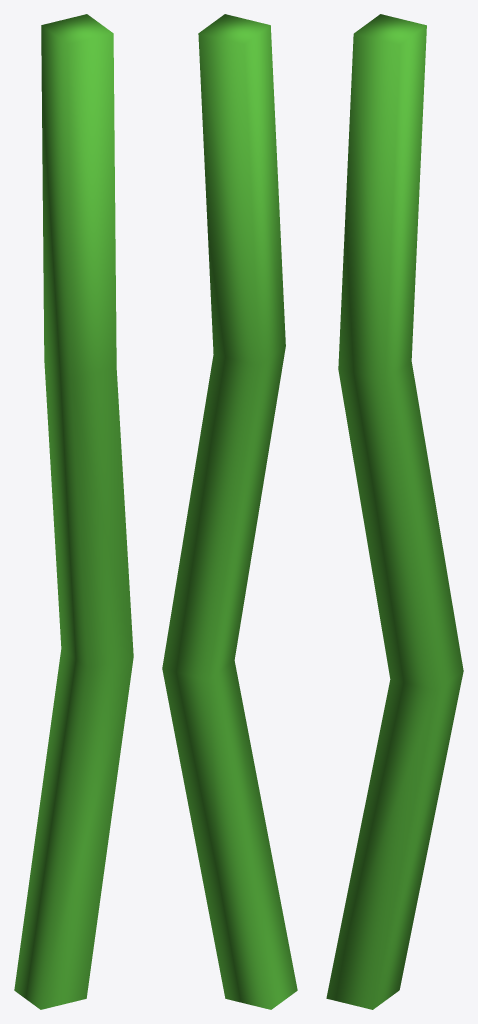
File: Plant_Stem_03.fbx
3 views of the same model, side by side, from view 1: azimuth 30°, elevation 25°; view 2: azimuth 150°, elevation 25°; view 3: azimuth 330°, elevation 25° (orthographic).
Visible parts, largest first — view 1: Plant_Stem_03; view 2: Plant_Stem_03; view 3: Plant_Stem_03.
Boxes of the visible parts, x1,y1,x2,y2 form: Plant_Stem_03: [14, 14, 133, 1009]; Plant_Stem_03: [162, 14, 297, 1009]; Plant_Stem_03: [326, 14, 463, 1009].
Size of the model in its own units: 6.02 by 54.59 by 4.5.
